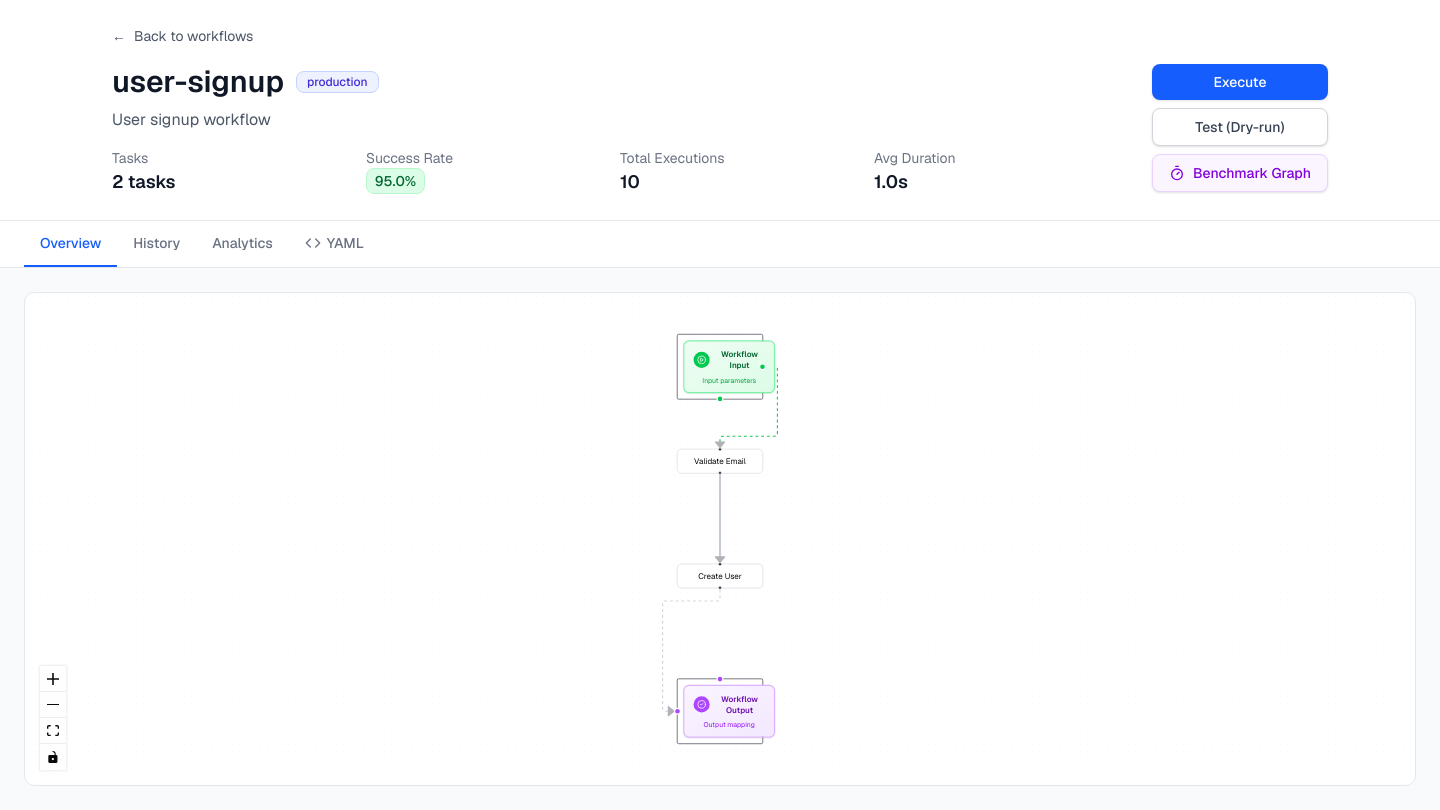
Test: WorkflowDetailTabs › YAML Tab › displays YAML content when available
Click the tab "YAML".
click(334, 244)  # box [289, 221, 380, 267]
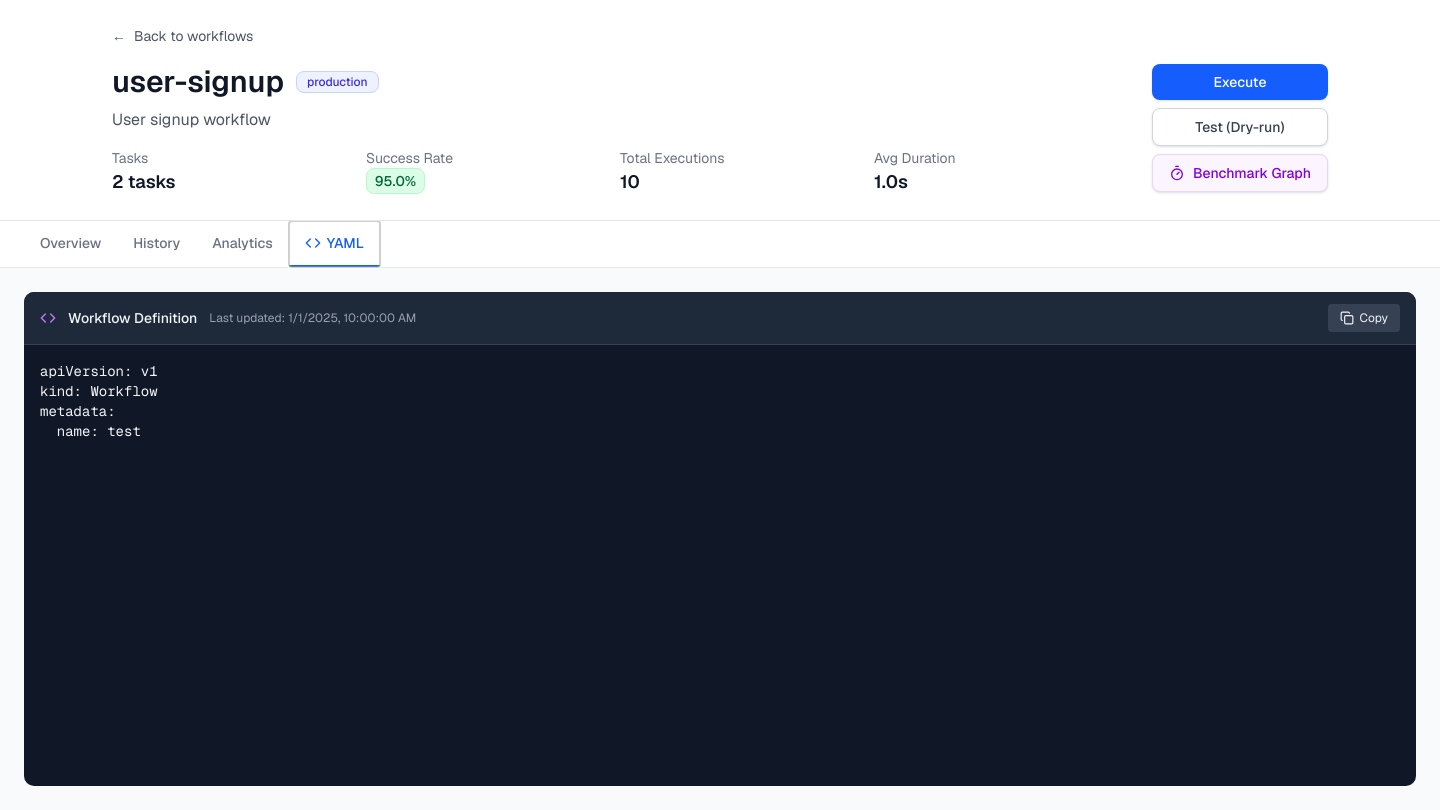
Check: the text "apiVersion: v1 kind: Workflow metadata: name: test" is shown, box [40, 362, 158, 440]
